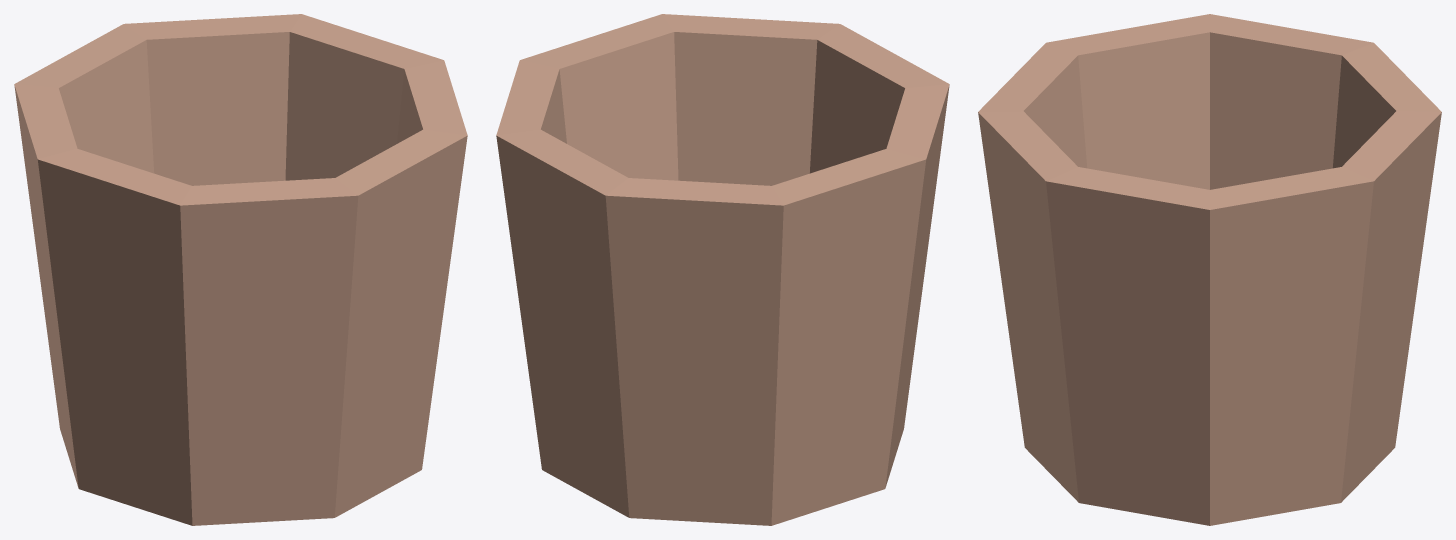
File: Bucket Empty.fbx
The picture shows the model from 3 angles, left to right: view 1: azimuth 30°, elevation 25°; view 2: azimuth 150°, elevation 25°; view 3: azimuth 270°, elevation 25°; orthographic projection.
Visible parts, largest first — view 1: Cylinder; view 2: Cylinder; view 3: Cylinder.
Part boxes in pixels (<box>): Cylinder: <box>14,14,467,525</box>; Cylinder: <box>496,14,949,525</box>; Cylinder: <box>978,14,1441,525</box>.
Bounding box in the file's own units: 250 × 201 × 250.
